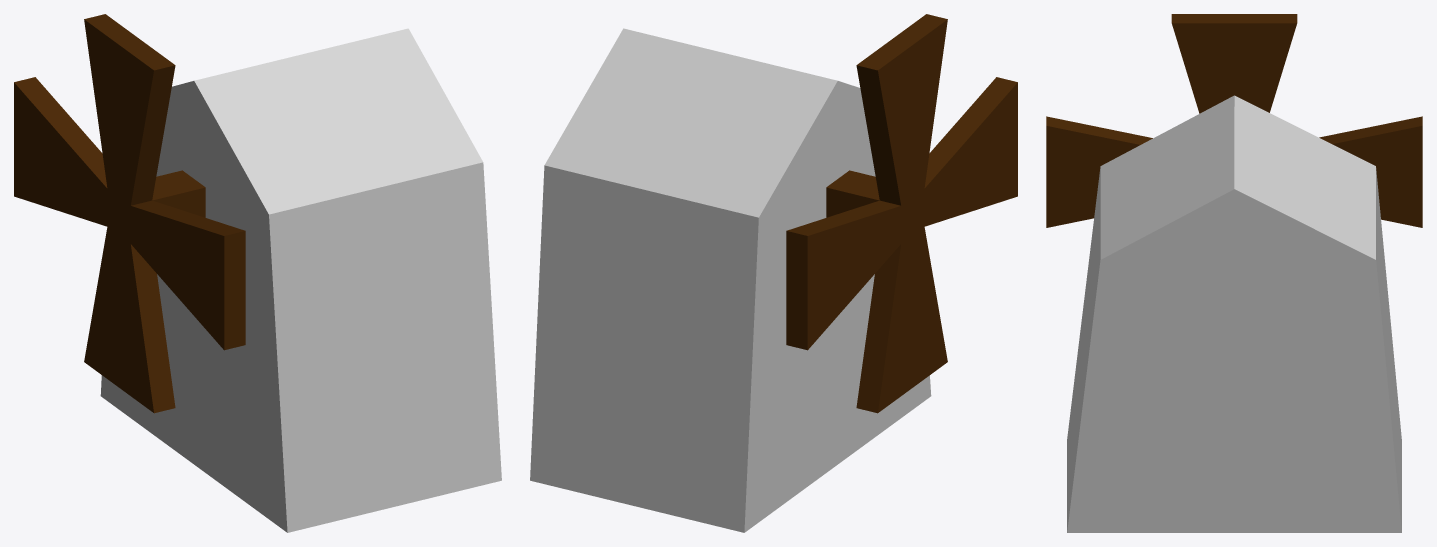
Rendered from AlmacenRecursos.fbx.
3 renders of one model, left to right at view 1: azimuth 30°, elevation 25°; view 2: azimuth 150°, elevation 25°; view 3: azimuth 270°, elevation 25°, orthographic. The views are drawn at different scales.
Parts seen in each view (by area): view 1: Cube, Aspa; view 2: Cube, Aspa; view 3: Cube, Aspa.
Part boxes in pixels (<box>): Cube: <box>100,28,501,532</box>; Aspa: <box>14,14,245,413</box>; Cube: <box>530,28,931,532</box>; Aspa: <box>786,14,1017,413</box>; Cube: <box>1067,95,1401,532</box>; Aspa: <box>1046,14,1422,227</box>.
Size of the model in its own units: 179 by 259 by 225.
